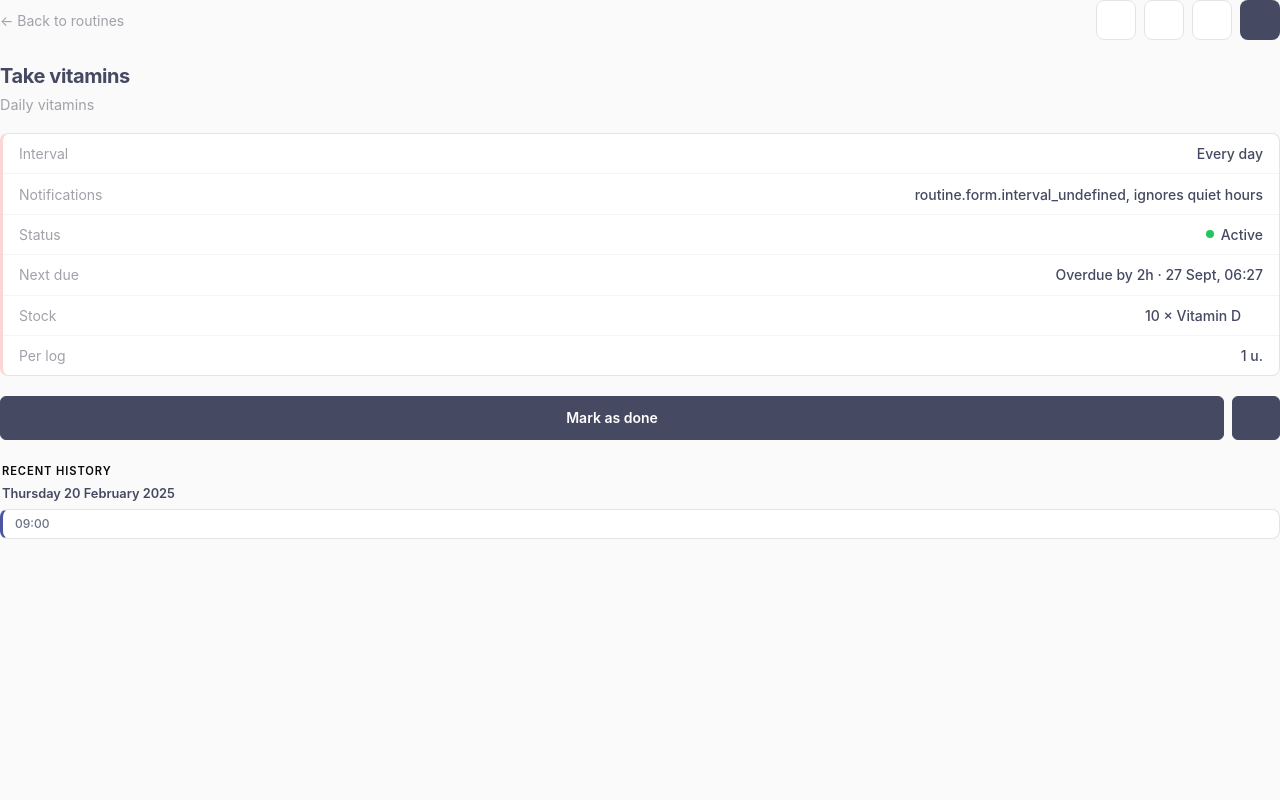
Test: RoutineDetailPage › cancels lot selection modal without logging
Click the button "Mark as done" at (612, 418), box [0,396,1224,440]
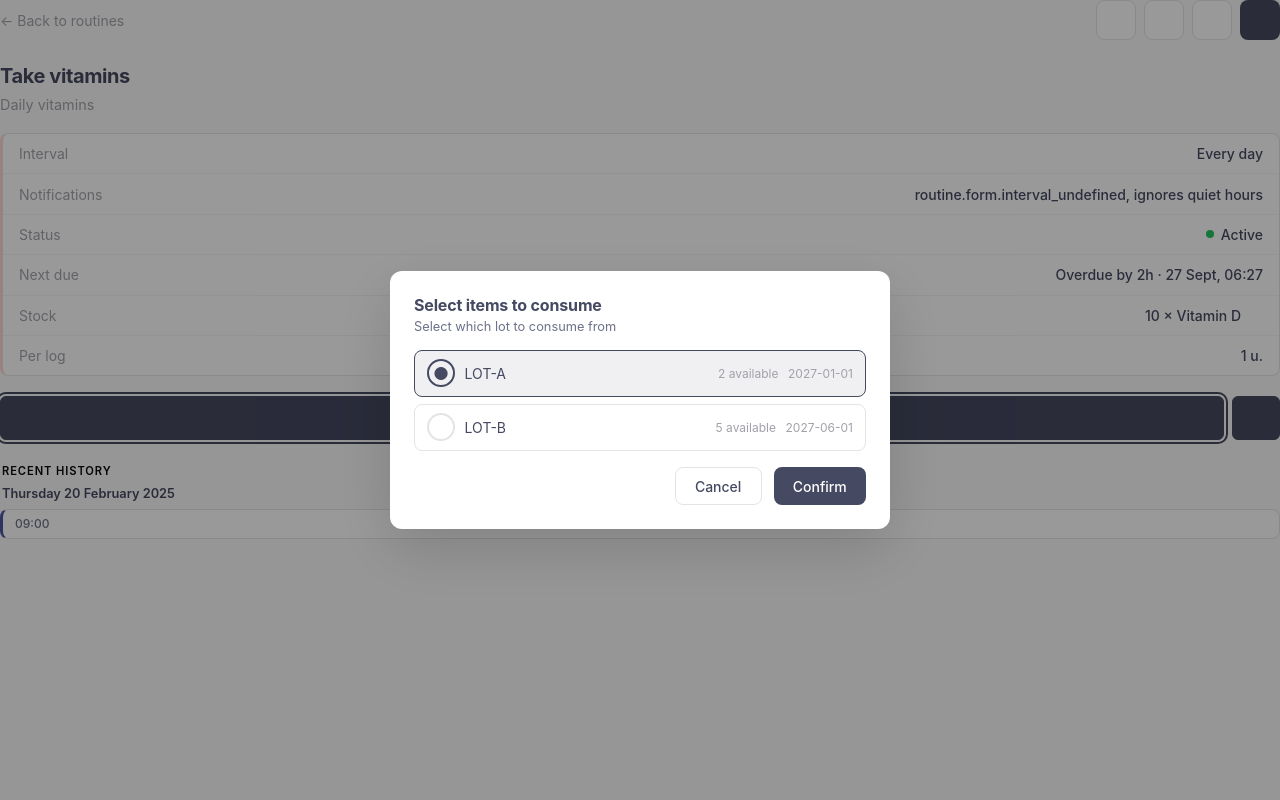
Result: the heading "Select items to consume" is shown at [414,295,602,315]
Click the button "Cancel" at (718, 486), box [675,467,762,505]
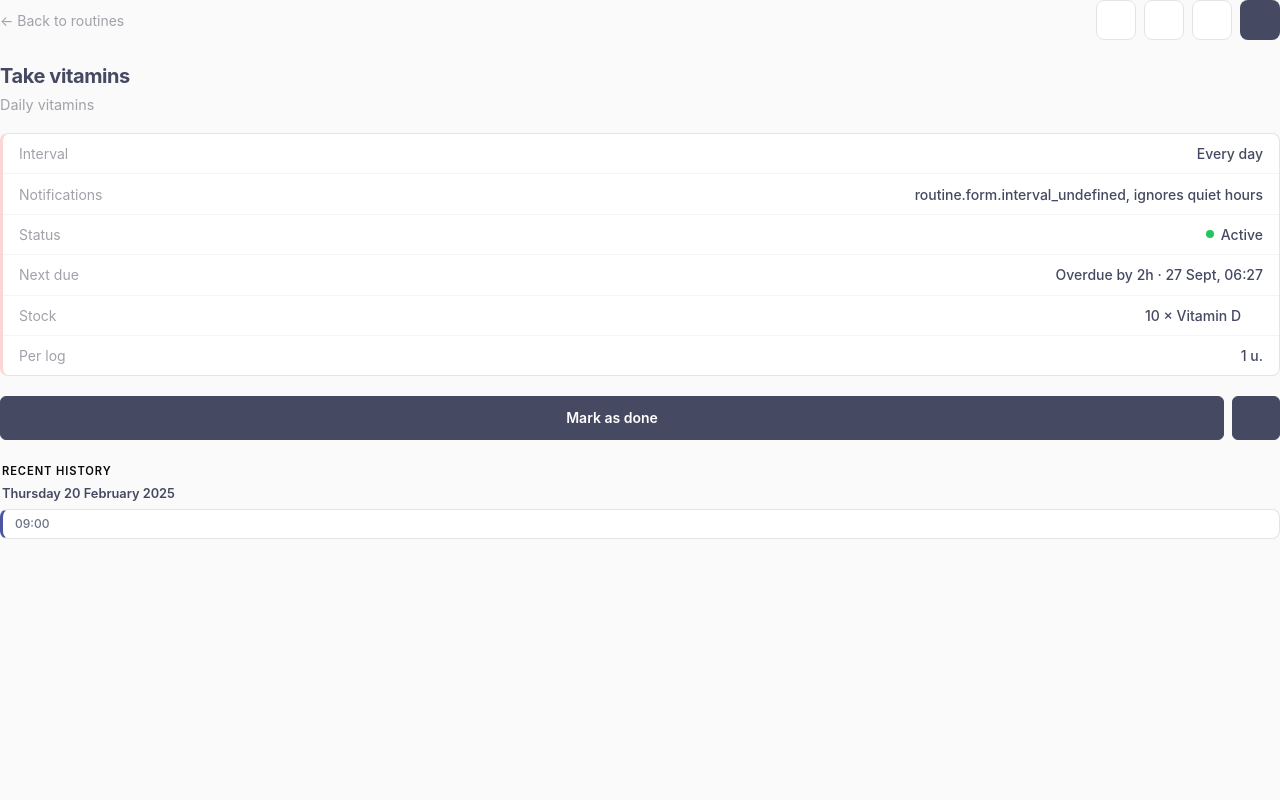
Result: the heading "Select items to consume" is gone
